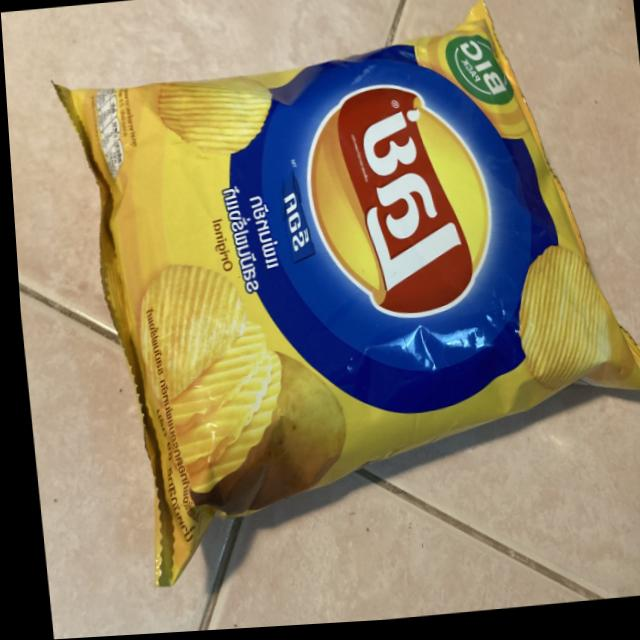LayYellow: (51, 0, 634, 497)
